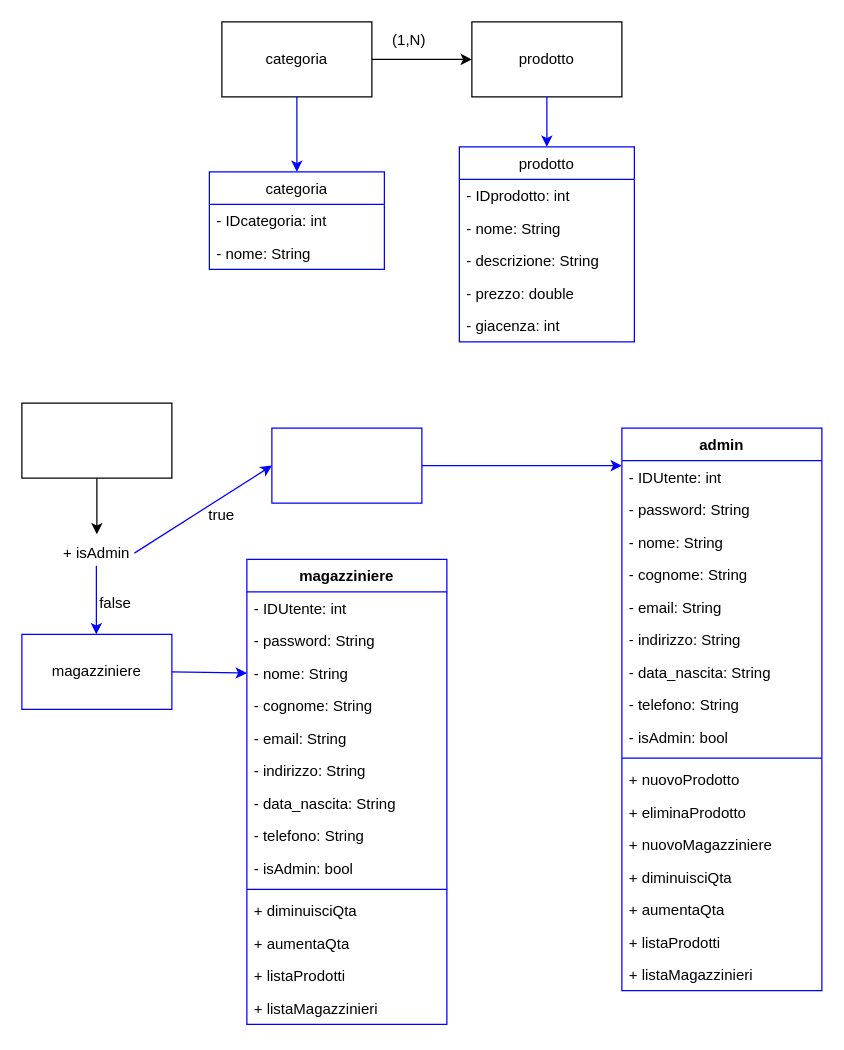
Some shapes in this 844 by 1050 pixel diagram are drawn without their labels. Each missing label, with the centre of its shape:
account: pixel 96 440
administrator: pixel 346 465
